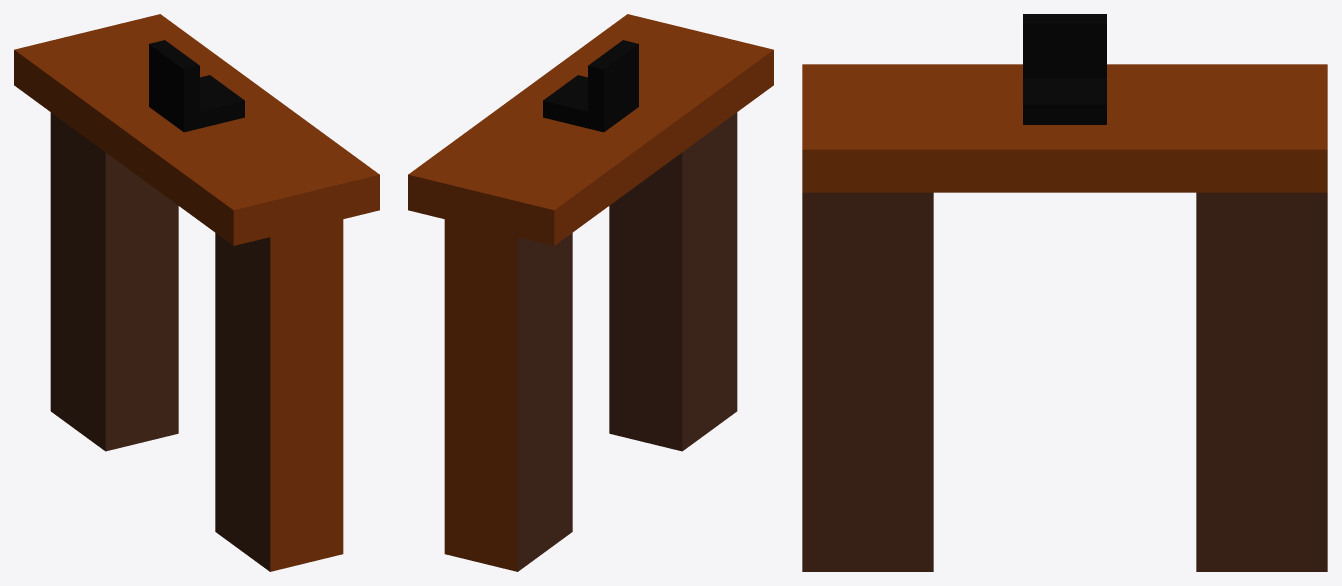
The model's file is Desk.fbx.
3 views of the same model, side by side, from view 1: azimuth 30°, elevation 25°; view 2: azimuth 150°, elevation 25°; view 3: azimuth 270°, elevation 25° (orthographic). The views are drawn at different scales.
Visible parts, largest first — view 1: Desk, Laptop; view 2: Desk, Laptop; view 3: Desk, Laptop.
Boxes of the visible parts, x1,y1,x2,y2 form: Desk: (14,14,379,571); Laptop: (149,40,244,132); Desk: (408,14,773,571); Laptop: (543,40,638,132); Desk: (802,64,1327,571); Laptop: (1023,14,1106,124).
Bounding box in the file's own units: 200 × 566 × 520.
